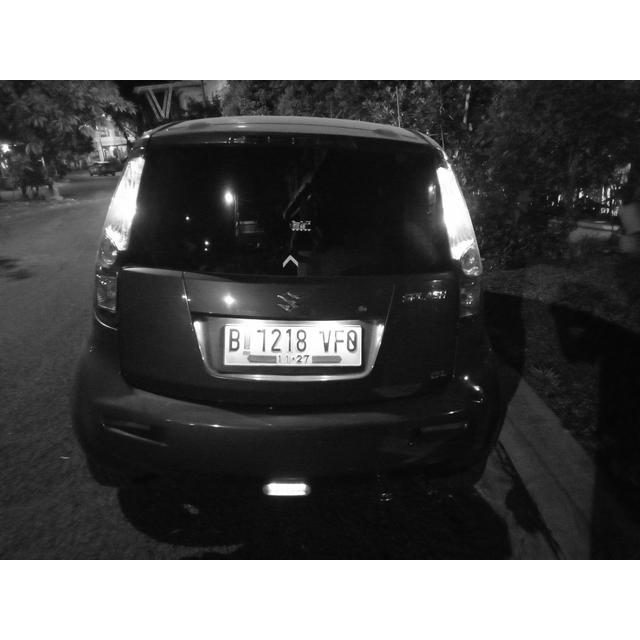license: (225, 325, 361, 365)
